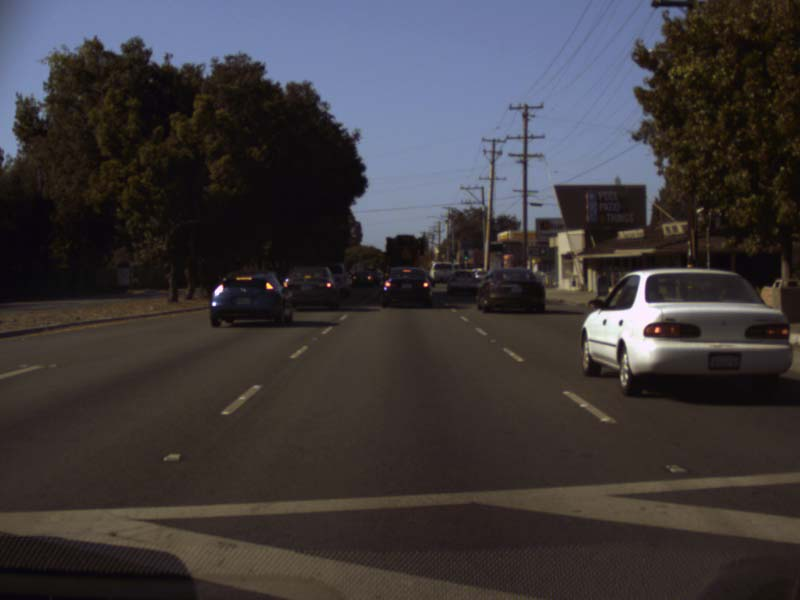Green: (463, 250, 468, 259), (451, 254, 456, 262)
